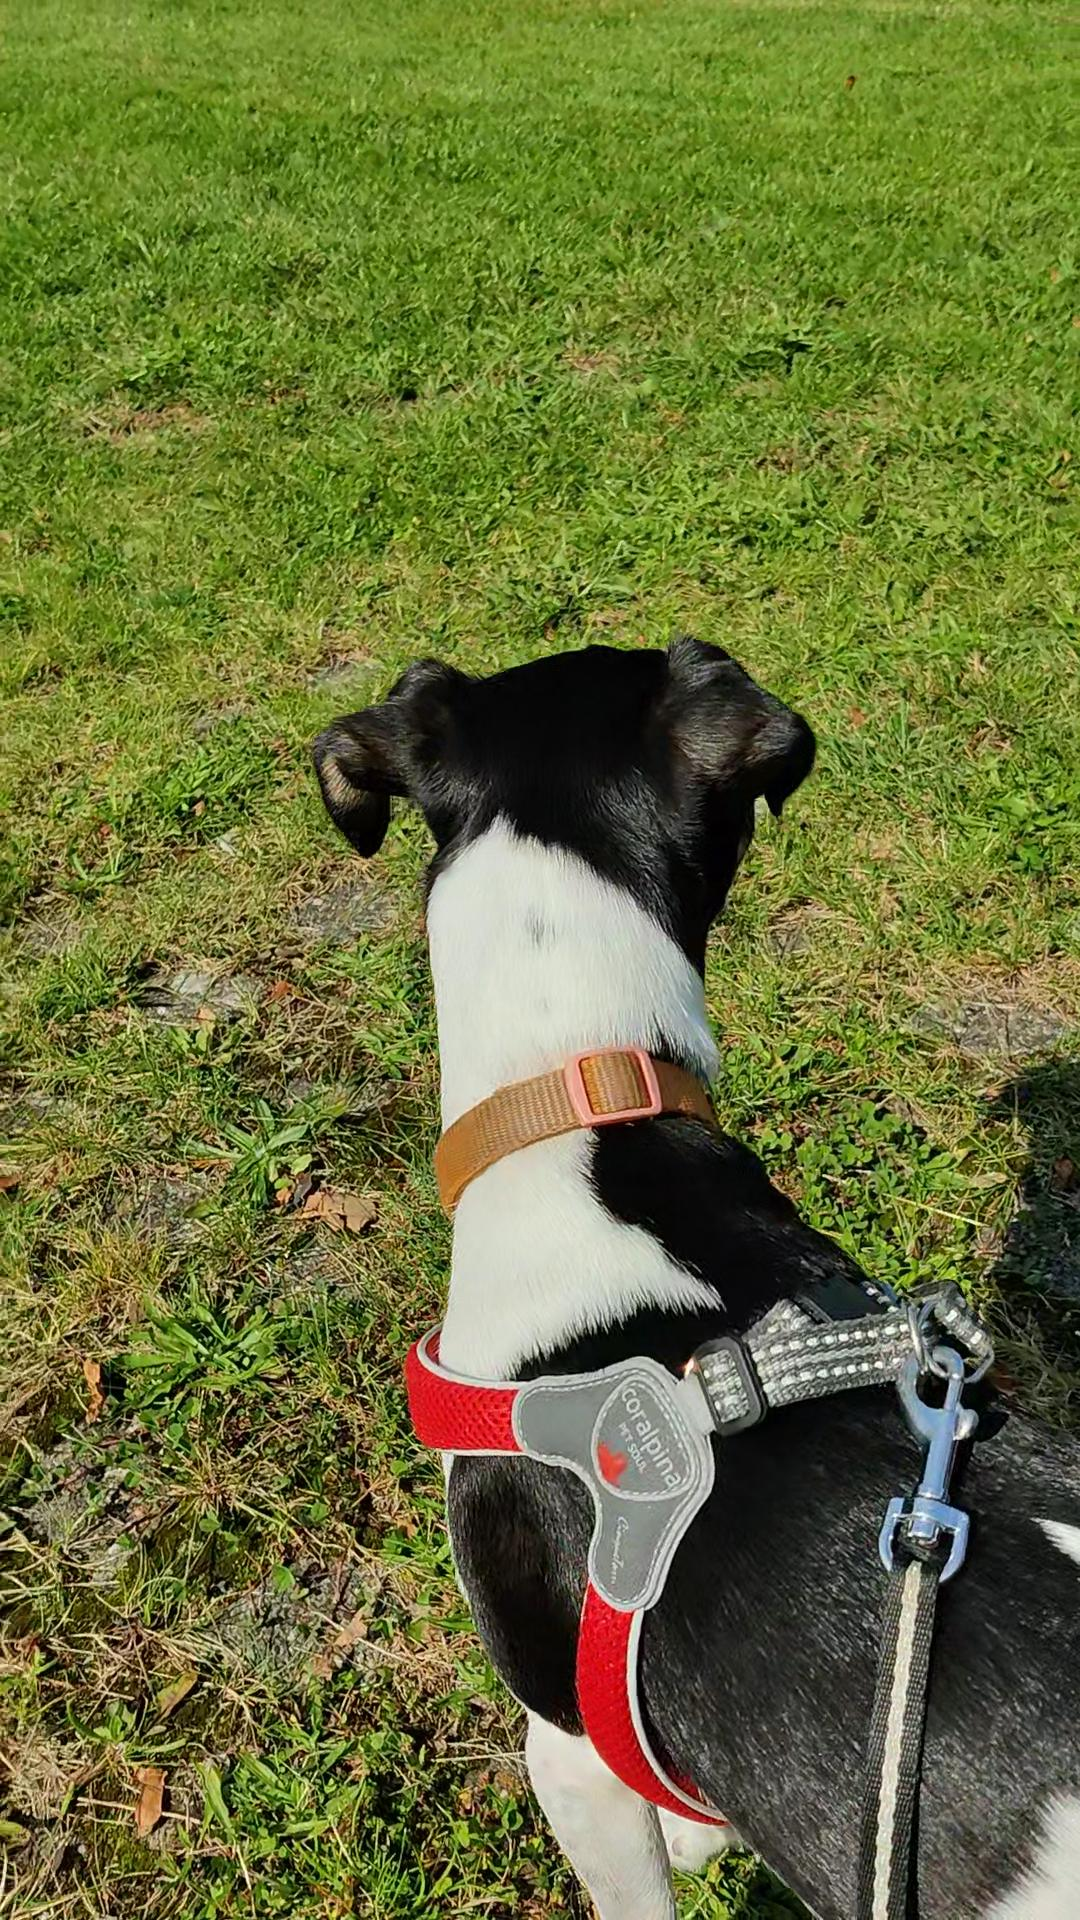Dog: (306, 626, 1079, 1919)
